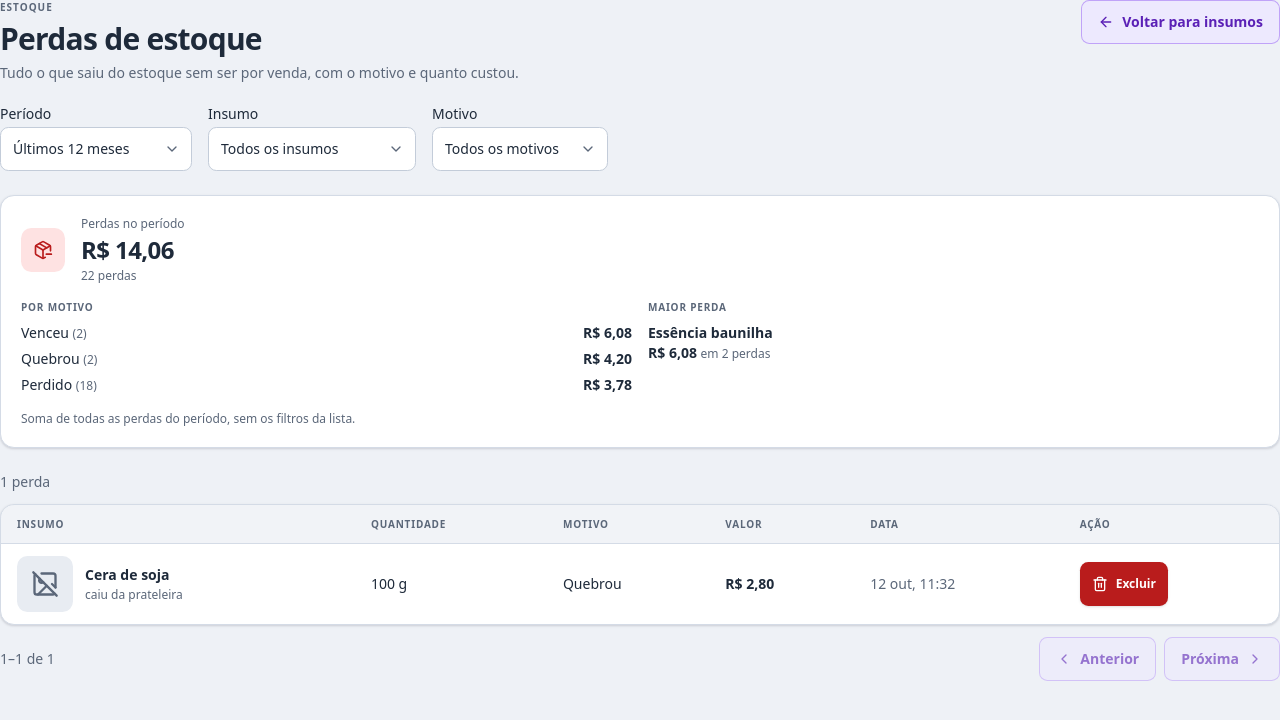
Test: the filters › says nothing matched, and clears the filters on request
Expected: the heading "Perdas de estoque" is shown, x1=0 y1=18 x2=262 y2=59
Expected: the text "caiu da prateleira" is shown, x1=85 y1=587 x2=183 y2=603
Select "Outro" in the dropdown labelled "Motivo": (520, 149) x1=432 y1=127 x2=608 y2=171
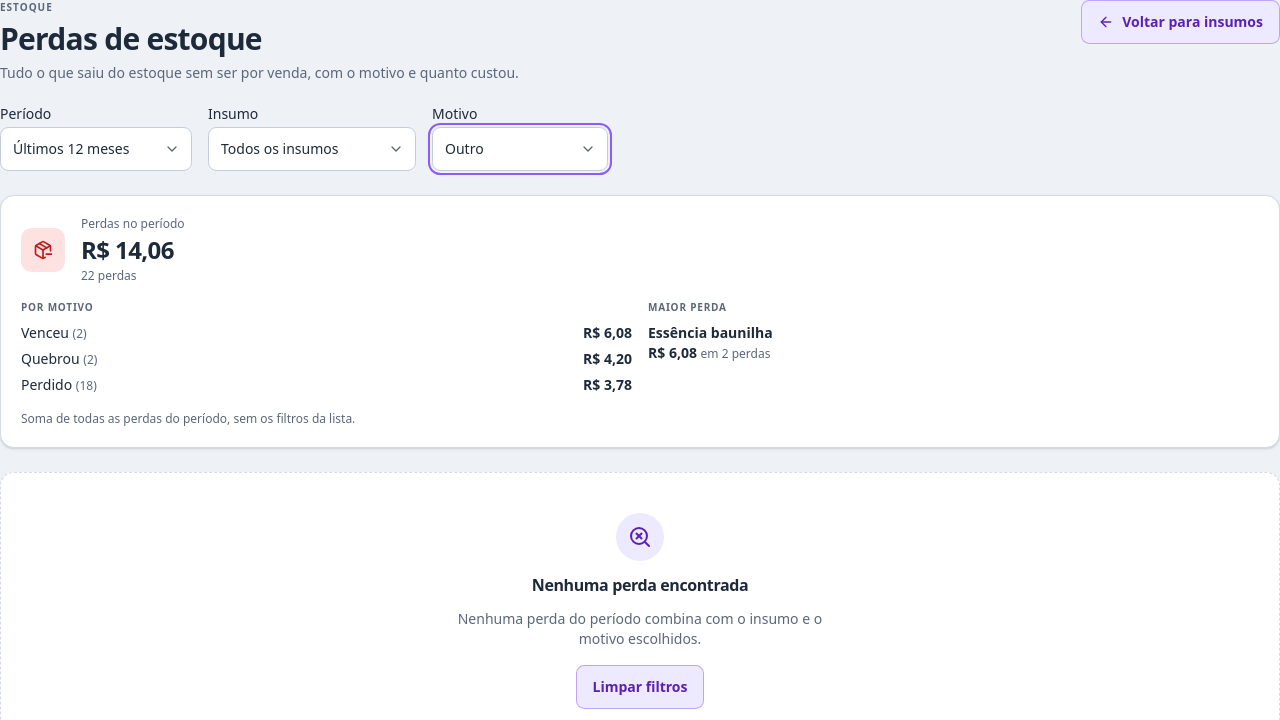
Result: the heading "Nenhuma perda encontrada" is shown at x1=532 y1=573 x2=748 y2=597
Click the button "Limpar filtros": (640, 687) x1=576 y1=665 x2=704 y2=709
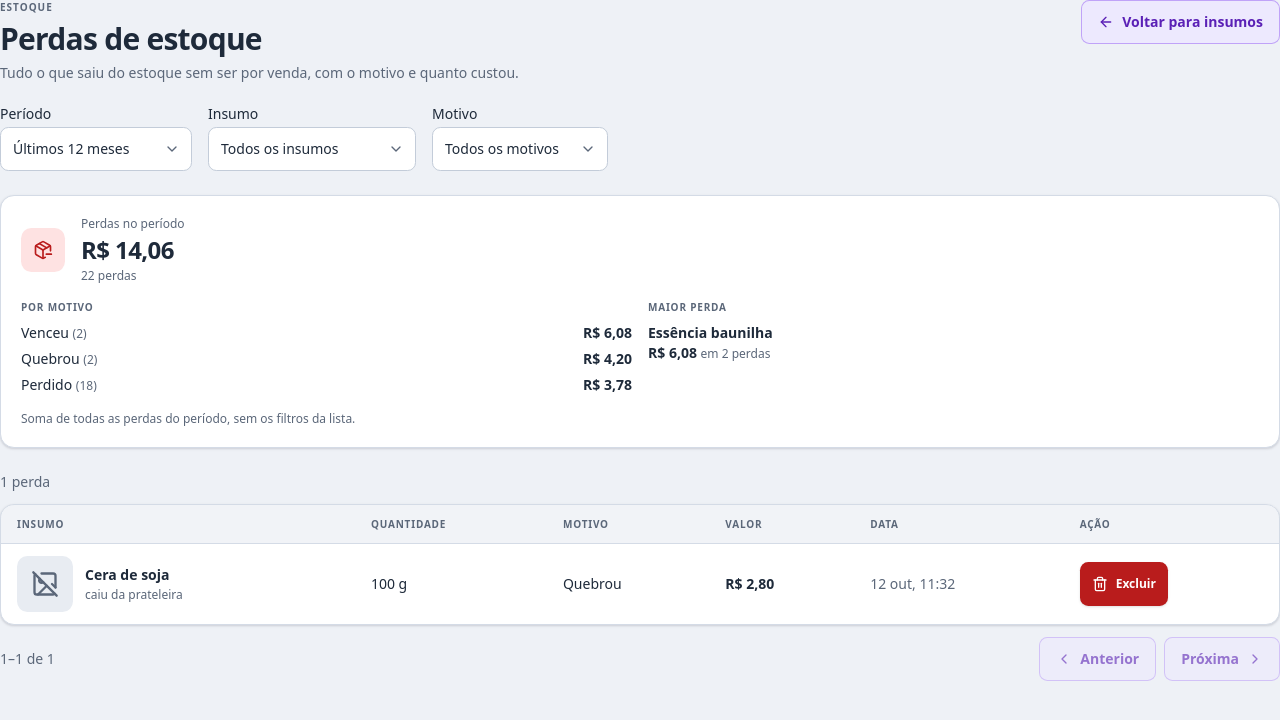
Result: the text "caiu da prateleira" is shown at x1=85 y1=587 x2=183 y2=603
